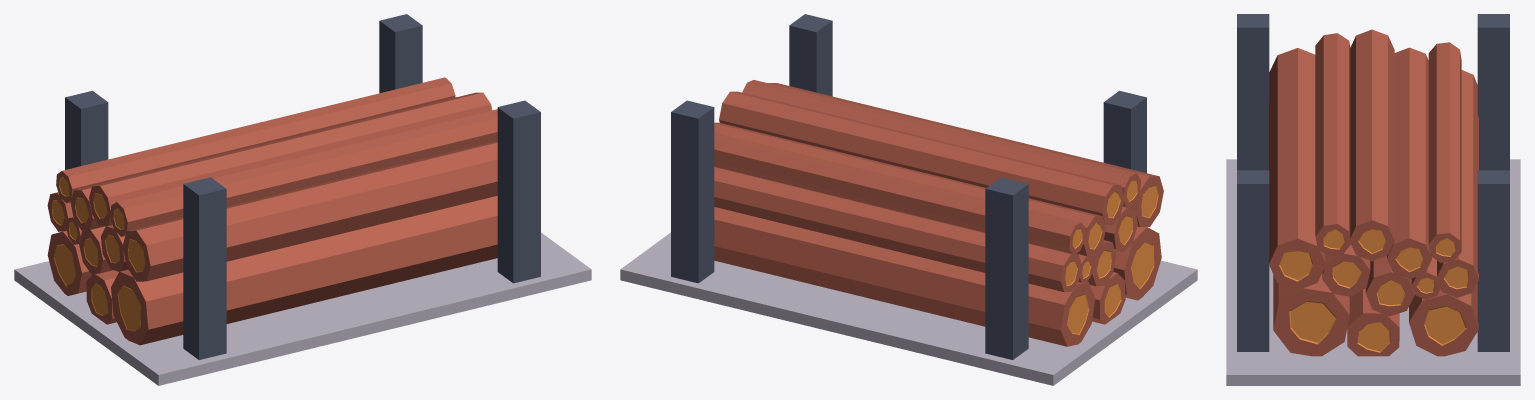
File: Storage.fbx
3 renders of one model, left to right at view 1: azimuth 30°, elevation 25°; view 2: azimuth 150°, elevation 25°; view 3: azimuth 270°, elevation 25°, orthographic.
Visible parts, largest first — view 1: Pack_3, Pack_1, Cube.001, Cube, Pack_2; view 2: Pack_3, Pack_1, Cube.001, Cube, Pack_2; view 3: Pack_3, Cube.001, Pack_2, Cube, Pack_1.
Part boxes in pixels (box(x1,y1,x2,y2)): Pack_3: box(56, 77, 497, 236); Pack_1: box(47, 196, 497, 345); Cube.001: box(65, 14, 540, 359); Cube: box(14, 232, 591, 385); Pack_2: box(47, 141, 497, 281); Pack_3: box(714, 80, 1140, 256); Pack_1: box(714, 207, 1161, 346); Cube.001: box(671, 14, 1146, 359); Cube: box(620, 232, 1197, 385); Pack_2: box(713, 83, 1163, 292); Pack_3: box(1315, 29, 1461, 279); Cube.001: box(1237, 14, 1509, 351); Pack_2: box(1269, 48, 1478, 316); Cube: box(1226, 159, 1520, 385); Pack_1: box(1273, 273, 1478, 356).
Size of the model in its own units: 676 by 262 by 390.
Materials: 1 (1 with a texture image).
